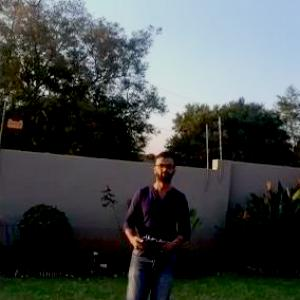follow: (111, 146, 194, 299)
